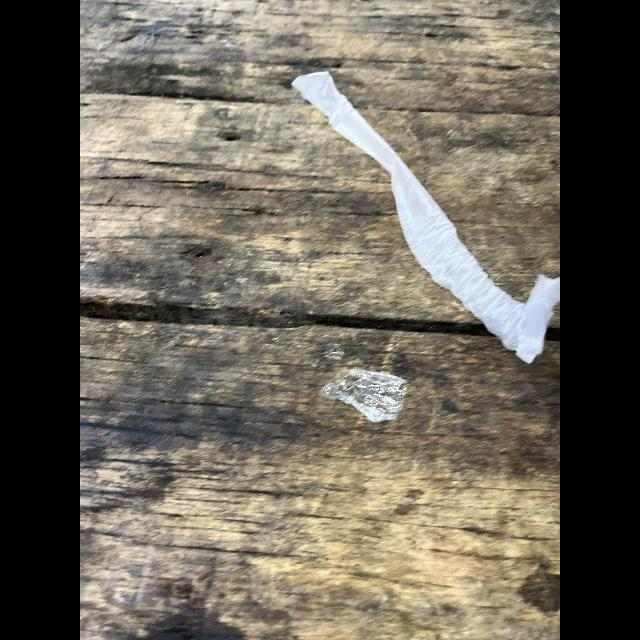scrap_plastic: (298, 70, 560, 360), (328, 368, 412, 426)
